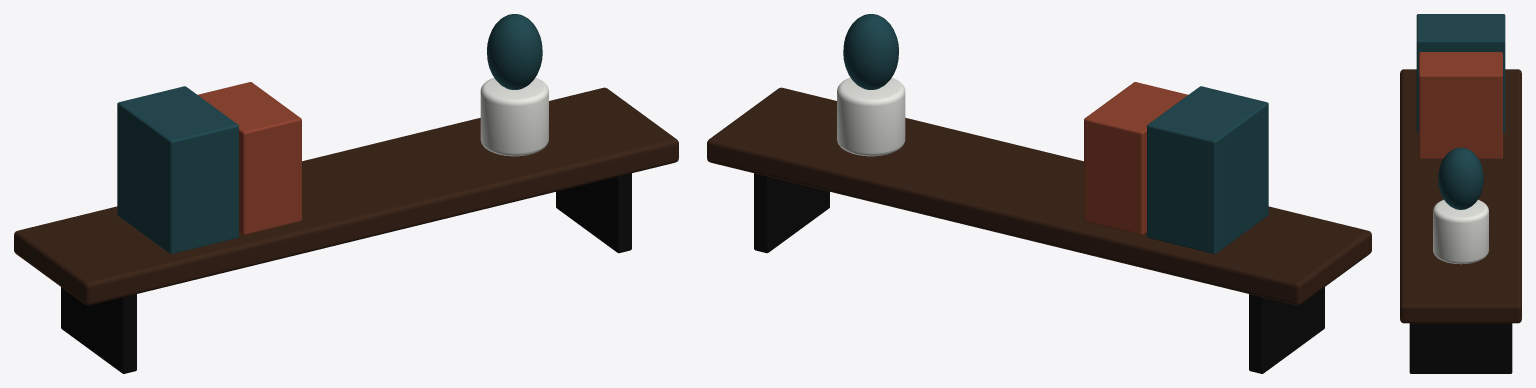
The model's file is modern_shelf_wall.obj.
3 views of the same model, side by side, from view 1: azimuth 30°, elevation 25°; view 2: azimuth 150°, elevation 25°; view 3: azimuth 270°, elevation 25° (orthographic). The views are drawn at different scales.
Parts seen in each view (by area): view 1: board, book_a, book_b, pot, bracket, bracket.001, leaf; view 2: board, book_a, book_b, pot, bracket, bracket.001, leaf; view 3: board, book_b, bracket.001, book_a, pot, leaf.
Boxes of the visible parts, x1,y1,x2,y2 form: board: (14,87,678,305); book_a: (117,86,238,253); book_b: (197,82,301,234); pot: (480,77,548,156); bracket: (61,287,136,373); bracket.001: (556,173,631,253); leaf: (487,14,542,89); board: (707,87,1371,305); book_a: (1147,86,1268,253); book_b: (1084,82,1188,234); pot: (837,77,905,156); bracket: (1249,287,1324,373); bracket.001: (754,173,829,253); leaf: (843,14,898,89); board: (1400,69,1521,323); book_b: (1419,52,1502,158); bracket.001: (1409,323,1512,373); book_a: (1416,14,1505,133); pot: (1433,200,1488,264); leaf: (1438,147,1483,209).
Size of the model in its own units: 1.2 by 0.45 by 0.26.
